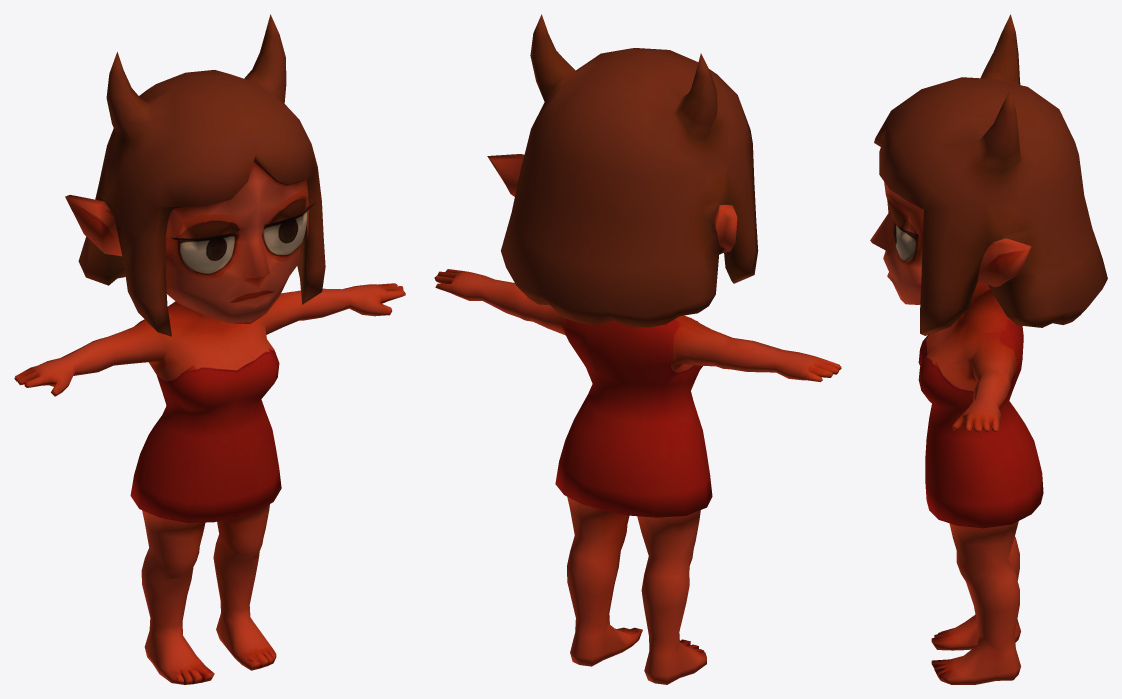
Rendered from selected.fbx.
The picture shows the model from 3 angles, left to right: view 1: azimuth 30°, elevation 25°; view 2: azimuth 150°, elevation 25°; view 3: azimuth 270°, elevation 25°; orthographic projection. The views are drawn at different scales.
Visible parts, largest first — view 1: tripo_node_761ffec0-a5b0-4ec1-830b-d53ce27e4fd4; view 2: tripo_node_761ffec0-a5b0-4ec1-830b-d53ce27e4fd4; view 3: tripo_node_761ffec0-a5b0-4ec1-830b-d53ce27e4fd4.
Boxes of the visible parts, x1=… form: tripo_node_761ffec0-a5b0-4ec1-830b-d53ce27e4fd4: x1=14, y1=14, x2=405, y2=684; tripo_node_761ffec0-a5b0-4ec1-830b-d53ce27e4fd4: x1=434, y1=14, x2=841, y2=684; tripo_node_761ffec0-a5b0-4ec1-830b-d53ce27e4fd4: x1=870, y1=14, x2=1107, y2=684.
Bounding box in the file's own units: 65.43 × 99.8 × 35.35.
1 material, 1 textured.
